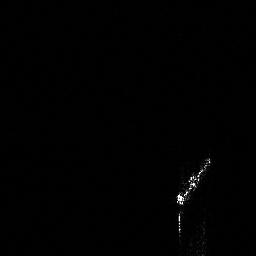ship: (171, 152, 216, 208)
